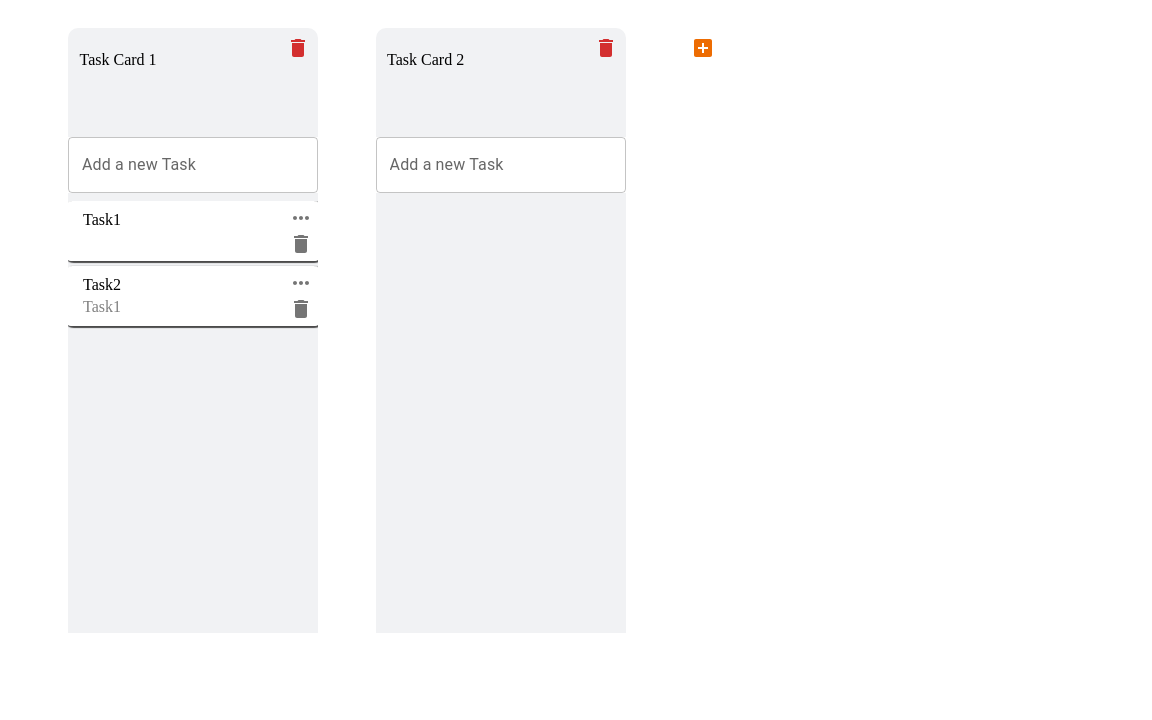
Test case: Body › delete task card
Click the 1st button named "delete". click: x=298, y=48
box: [278, 28, 318, 68]
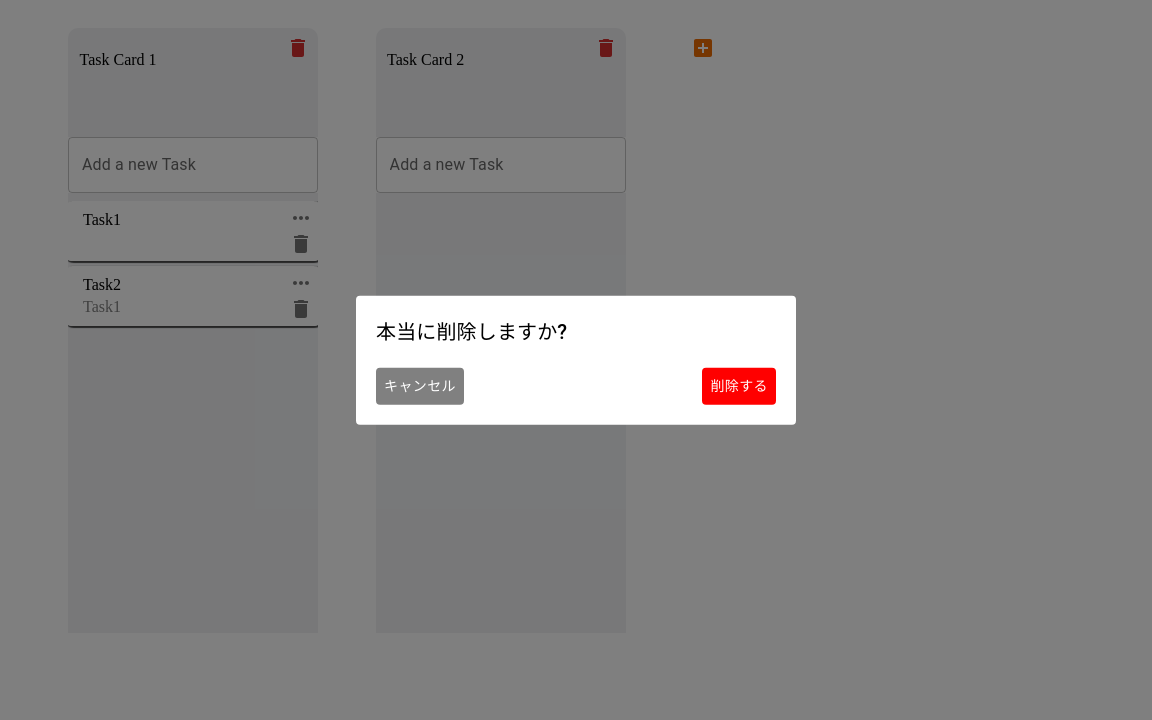
// Modalの削除するボタンをクリック
Click the button "削除する". click: x=739, y=386
box: [702, 368, 776, 404]
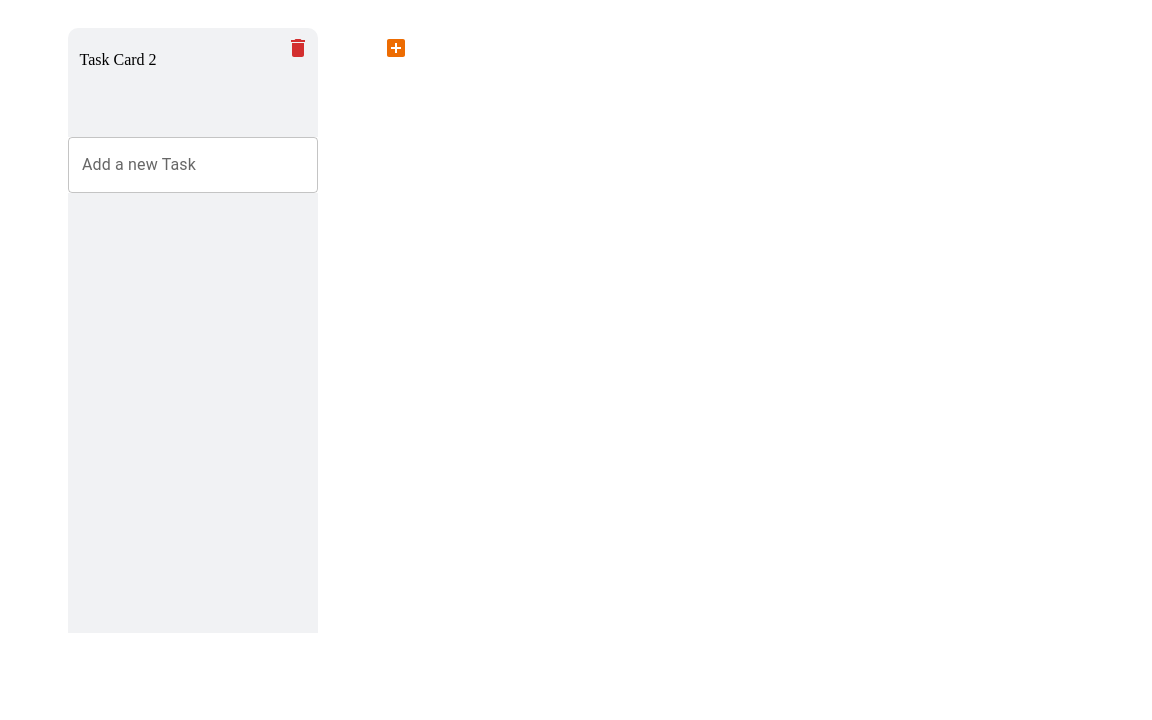
expect the button "Task1" is gone: met
expect the button "Task2" is gone: met
expect the button "Task Card 1" is gone: met
